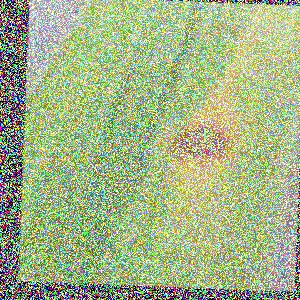Bacterial_Leaf_Blight: (156, 106, 247, 175), (206, 17, 234, 39), (271, 96, 296, 115), (255, 52, 278, 71)
